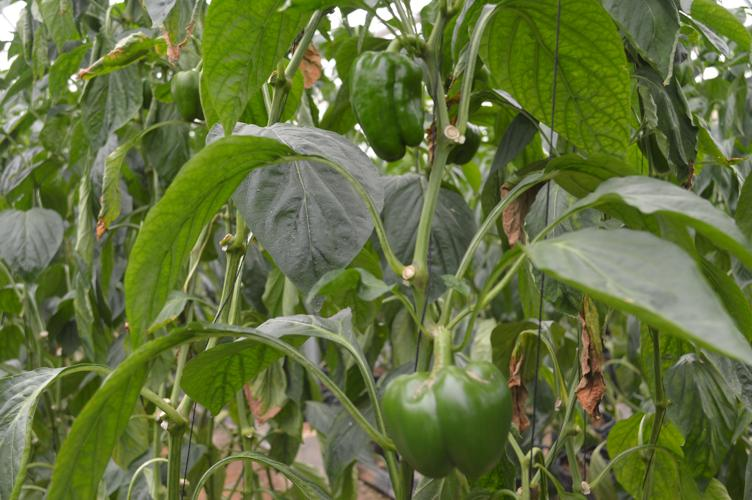BellPepper: (378, 355, 515, 483), (346, 42, 434, 171), (169, 67, 209, 124)
